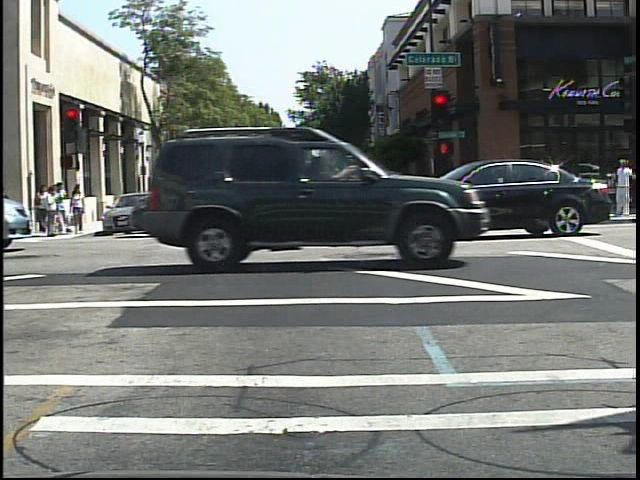person: (613, 155, 637, 219), (164, 181, 183, 221)
